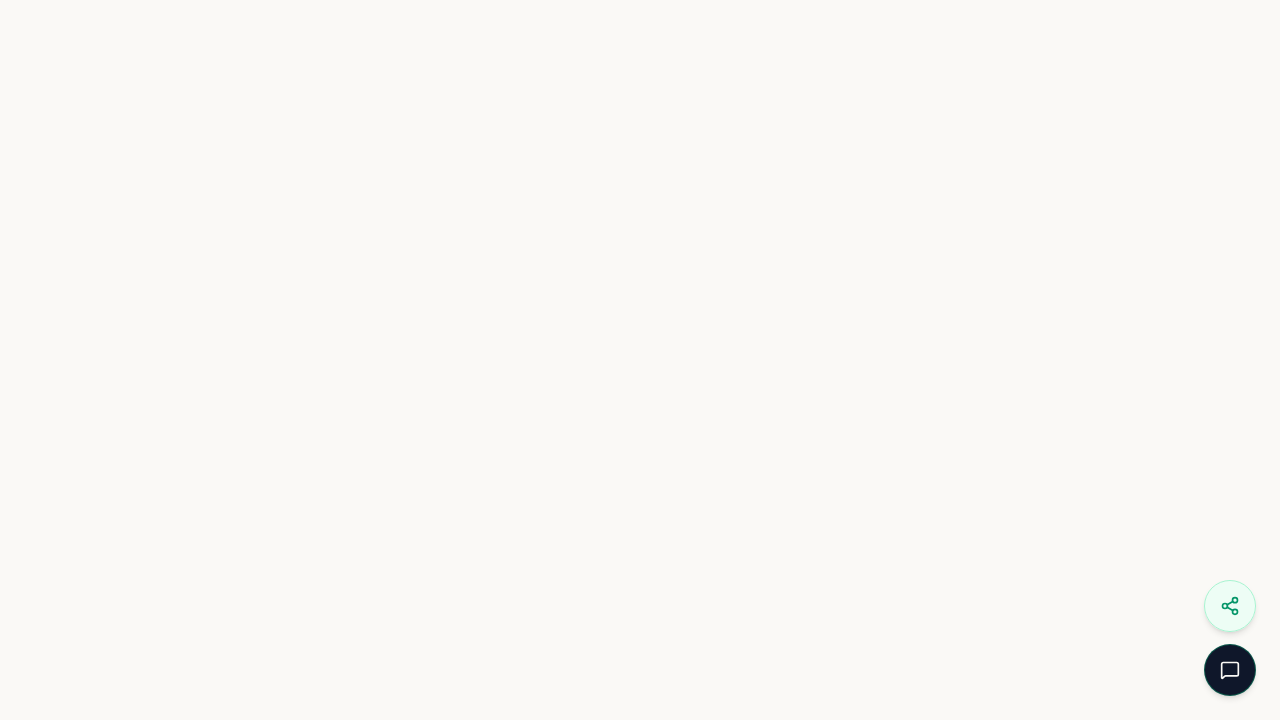
it: UI Components › ExpertChatBox & MenuDrawer dialogs › opens accessible ExpertChatBox modal dialog and closes on Escape
This screenshot has width=1280, height=720.
Step 1. Click the button named "open ask air expert chat" → {"x": 1230, "y": 670}, box [1204,644,1256,696]
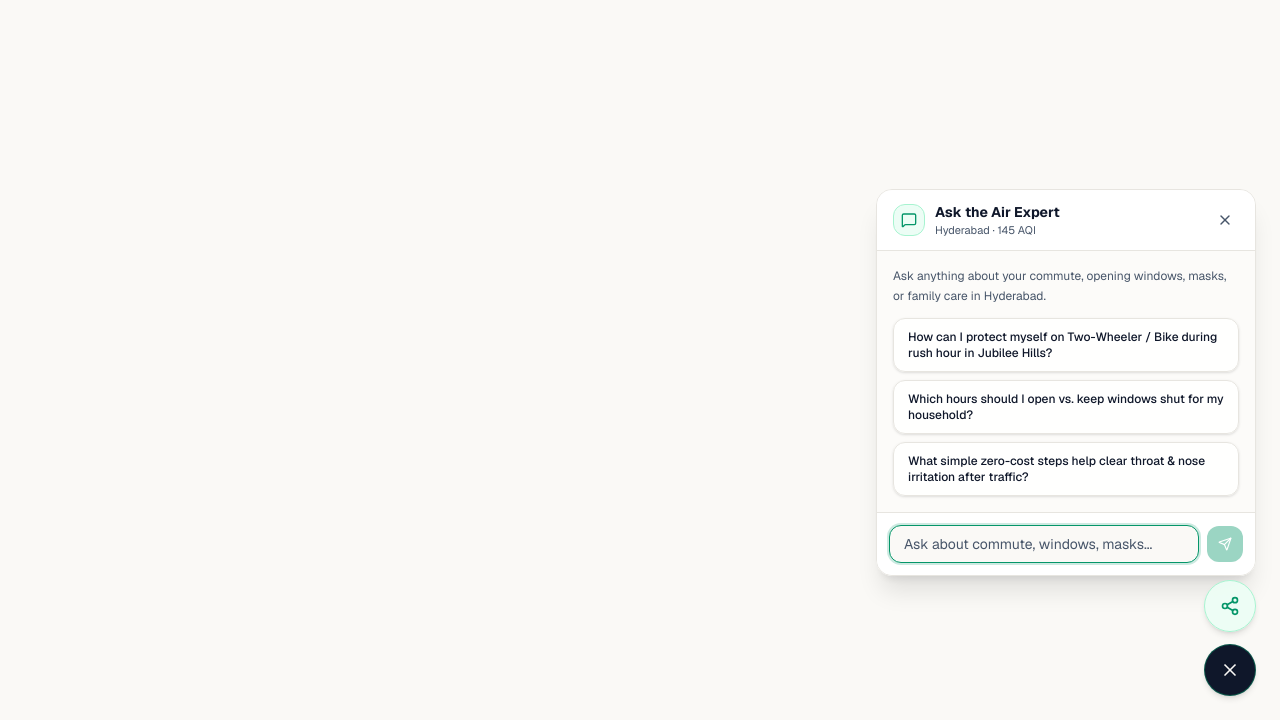
Step 2. Press Escape
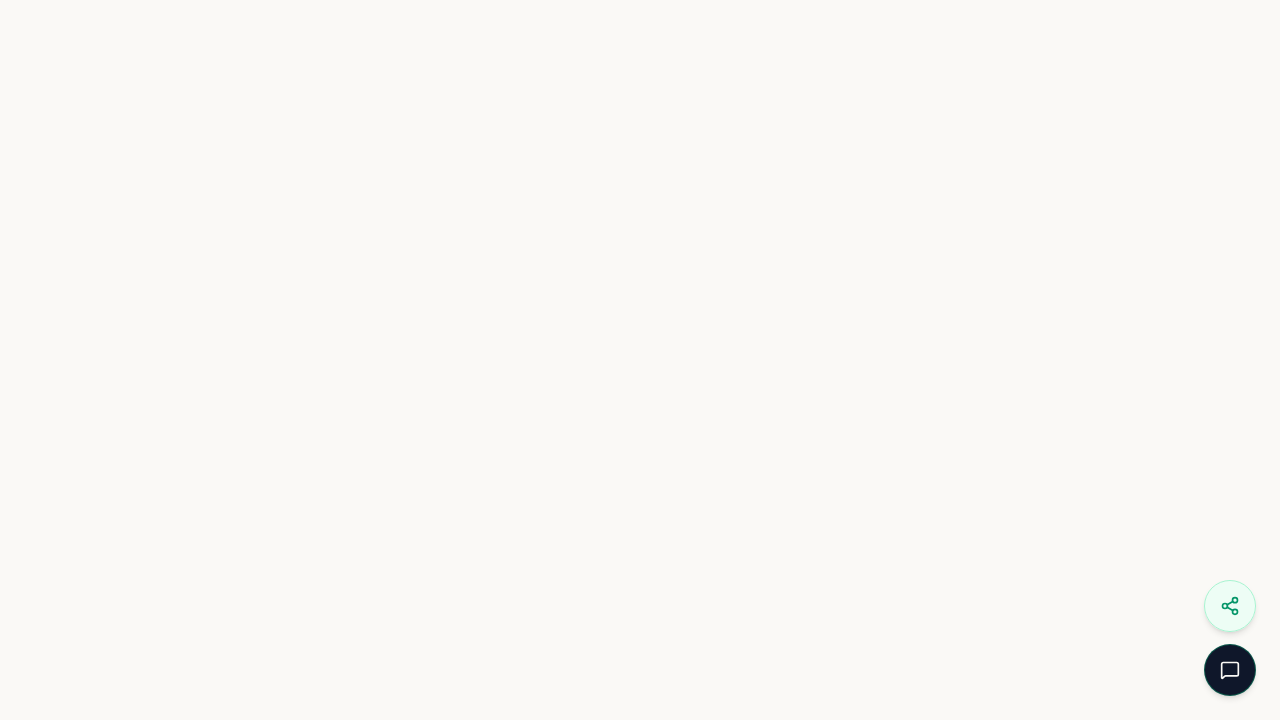
expect the heading "Ask the Air Expert" is gone: met
